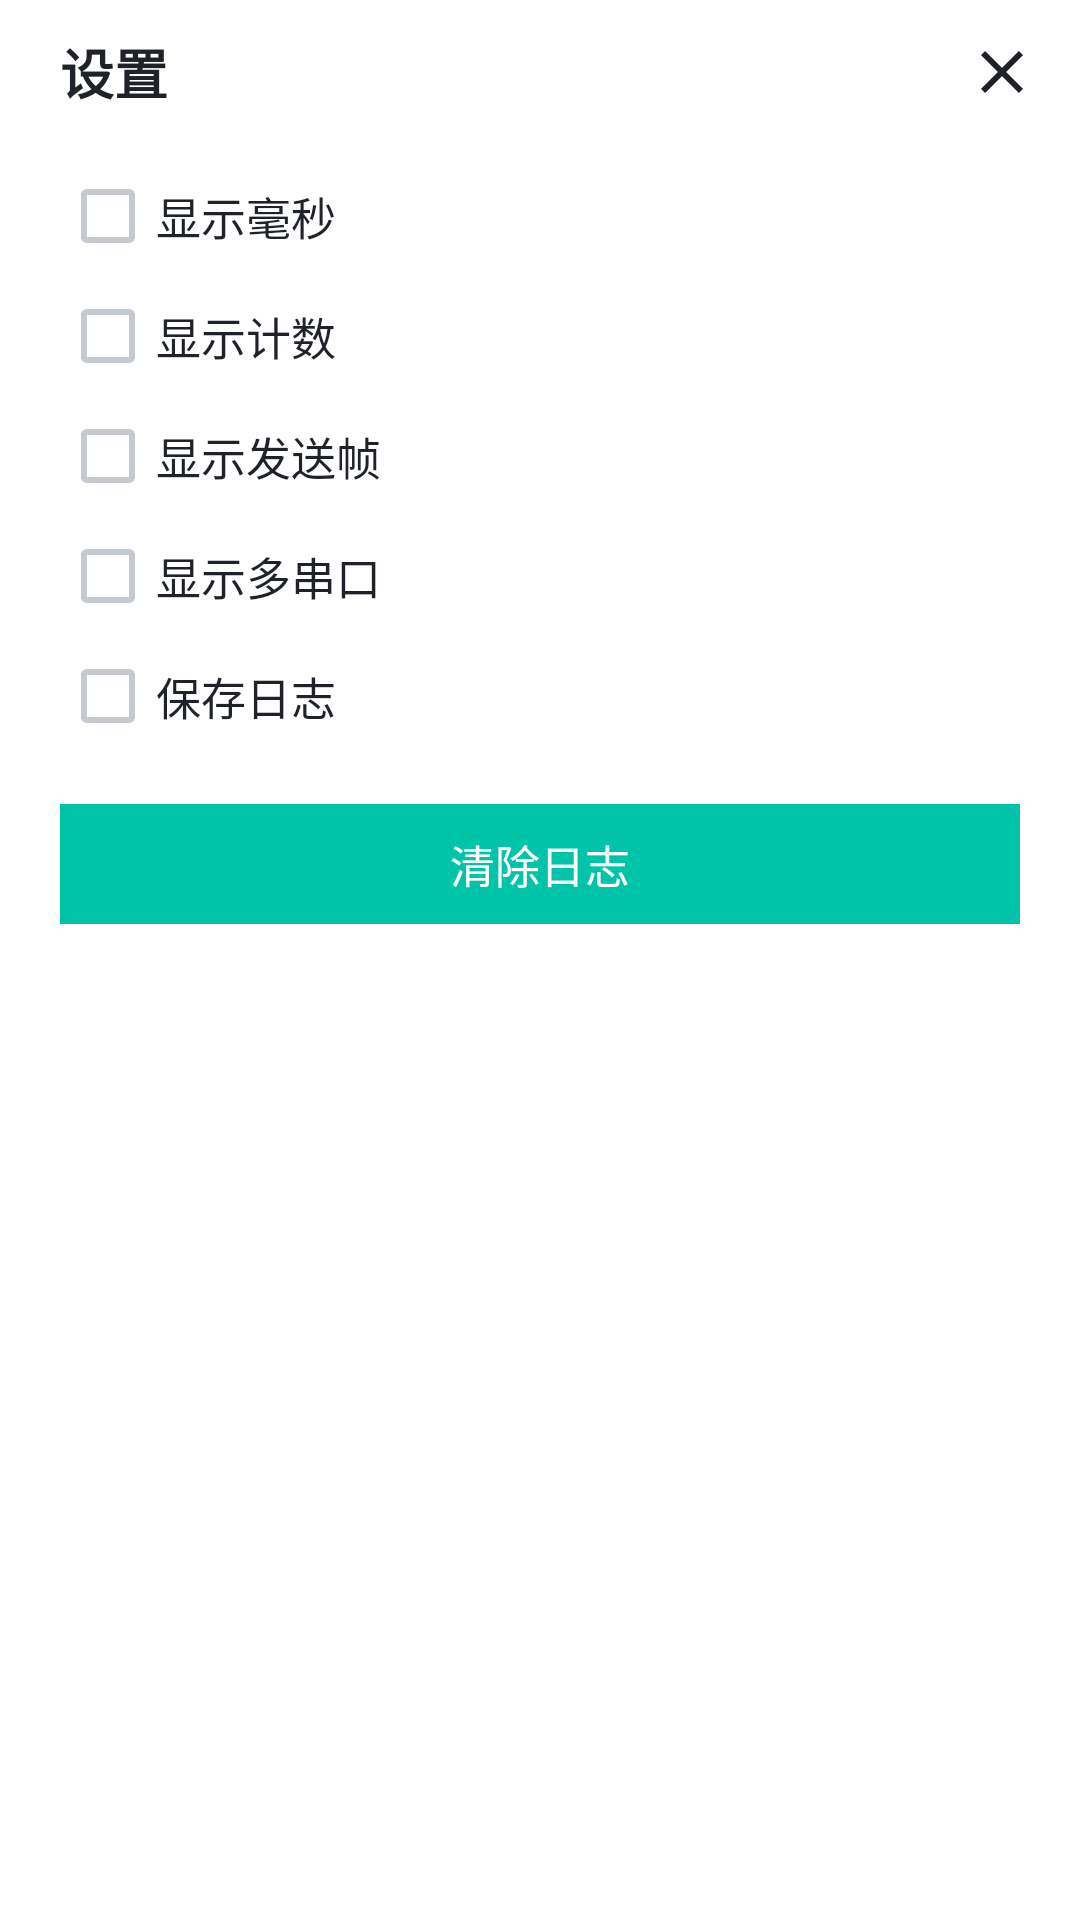

Screen size 1080*1920. Icon name, then its box in pixels as (x1, y1, x2, y2):
关闭: (981, 51, 1023, 93)
